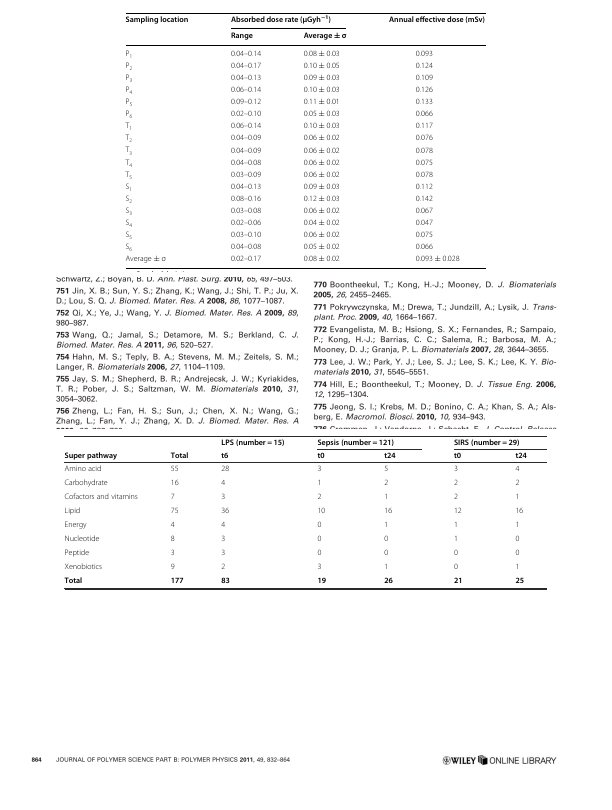borderless: (124, 11, 486, 268), (63, 434, 546, 588)
cell: (230, 14, 332, 25), (388, 15, 486, 25), (64, 492, 139, 502), (316, 438, 395, 447), (125, 15, 189, 25), (453, 438, 520, 447), (220, 438, 285, 447), (64, 451, 118, 461), (64, 478, 109, 488), (303, 31, 347, 41), (415, 255, 461, 264), (64, 562, 103, 572), (124, 255, 167, 264), (64, 464, 102, 474), (303, 49, 341, 59), (303, 61, 341, 71), (303, 170, 341, 180), (303, 182, 341, 192), (64, 534, 100, 544), (303, 74, 341, 83), (303, 86, 341, 95), (303, 98, 341, 107), (303, 110, 341, 119), (303, 122, 341, 131), (303, 134, 341, 143), (303, 146, 341, 155), (303, 158, 341, 167), (303, 195, 341, 204), (303, 207, 341, 216), (303, 219, 341, 228), (303, 231, 341, 240), (303, 243, 341, 252), (303, 255, 341, 264), (230, 49, 262, 59), (230, 61, 262, 71), (230, 170, 262, 180), (230, 182, 262, 192), (230, 74, 262, 83), (230, 86, 262, 95), (230, 98, 262, 107), (230, 110, 262, 119), (230, 122, 262, 131), (230, 134, 262, 143), (230, 146, 262, 155), (230, 158, 262, 167), (230, 195, 262, 204), (230, 207, 262, 216), (230, 219, 262, 228), (230, 231, 262, 240), (230, 243, 262, 252), (230, 255, 262, 264), (64, 548, 90, 558), (230, 31, 254, 41), (64, 520, 87, 530), (170, 451, 189, 461), (64, 576, 83, 586), (415, 49, 434, 59), (415, 61, 434, 71), (415, 170, 434, 180), (415, 182, 434, 192), (415, 74, 434, 83), (415, 86, 434, 95), (415, 98, 434, 107), (415, 110, 434, 119), (415, 122, 434, 131), (415, 134, 434, 143), (415, 146, 434, 155), (415, 158, 434, 167), (415, 195, 434, 204), (415, 207, 434, 216), (415, 219, 434, 228), (415, 231, 434, 240), (415, 243, 434, 252), (64, 506, 81, 516), (383, 451, 397, 461), (514, 451, 528, 461), (170, 576, 184, 586), (220, 576, 231, 586), (316, 576, 327, 586), (383, 576, 394, 586), (514, 576, 525, 586), (220, 464, 230, 474), (220, 506, 230, 516), (316, 506, 326, 516), (383, 506, 393, 516), (453, 506, 463, 516), (514, 506, 524, 516), (453, 576, 463, 586), (124, 122, 133, 133), (124, 134, 133, 145), (124, 146, 133, 157), (124, 158, 133, 169), (124, 170, 133, 181), (124, 182, 133, 193), (124, 231, 133, 242), (124, 243, 133, 254), (220, 451, 229, 461), (316, 451, 325, 461), (453, 451, 462, 461), (170, 464, 179, 474), (170, 478, 179, 488), (170, 506, 179, 516), (124, 195, 133, 205), (124, 207, 133, 217), (124, 219, 133, 229), (125, 49, 133, 60), (125, 61, 133, 72), (125, 110, 133, 121), (125, 74, 133, 84), (125, 86, 133, 96), (125, 98, 133, 108), (316, 464, 322, 474), (383, 464, 389, 474), (453, 464, 459, 474), (514, 464, 520, 474), (220, 478, 226, 488), (316, 478, 322, 488), (383, 478, 389, 488), (453, 478, 459, 488), (514, 478, 520, 488), (170, 492, 176, 502), (220, 492, 226, 502), (316, 492, 322, 502), (383, 492, 389, 502), (453, 492, 459, 502), (514, 492, 520, 502), (170, 520, 176, 530), (220, 520, 226, 530), (316, 520, 322, 530), (383, 520, 389, 530), (453, 520, 459, 530), (514, 520, 520, 530), (170, 534, 176, 544), (220, 534, 226, 544), (316, 534, 322, 544), (383, 534, 389, 544), (453, 534, 459, 544), (514, 534, 520, 544), (170, 548, 176, 558), (220, 548, 226, 558), (316, 548, 322, 558), (383, 548, 389, 558), (453, 548, 459, 558), (514, 548, 520, 558), (170, 562, 176, 572), (220, 562, 226, 572), (316, 562, 322, 572), (383, 562, 389, 572), (453, 562, 459, 572), (514, 562, 520, 572)
